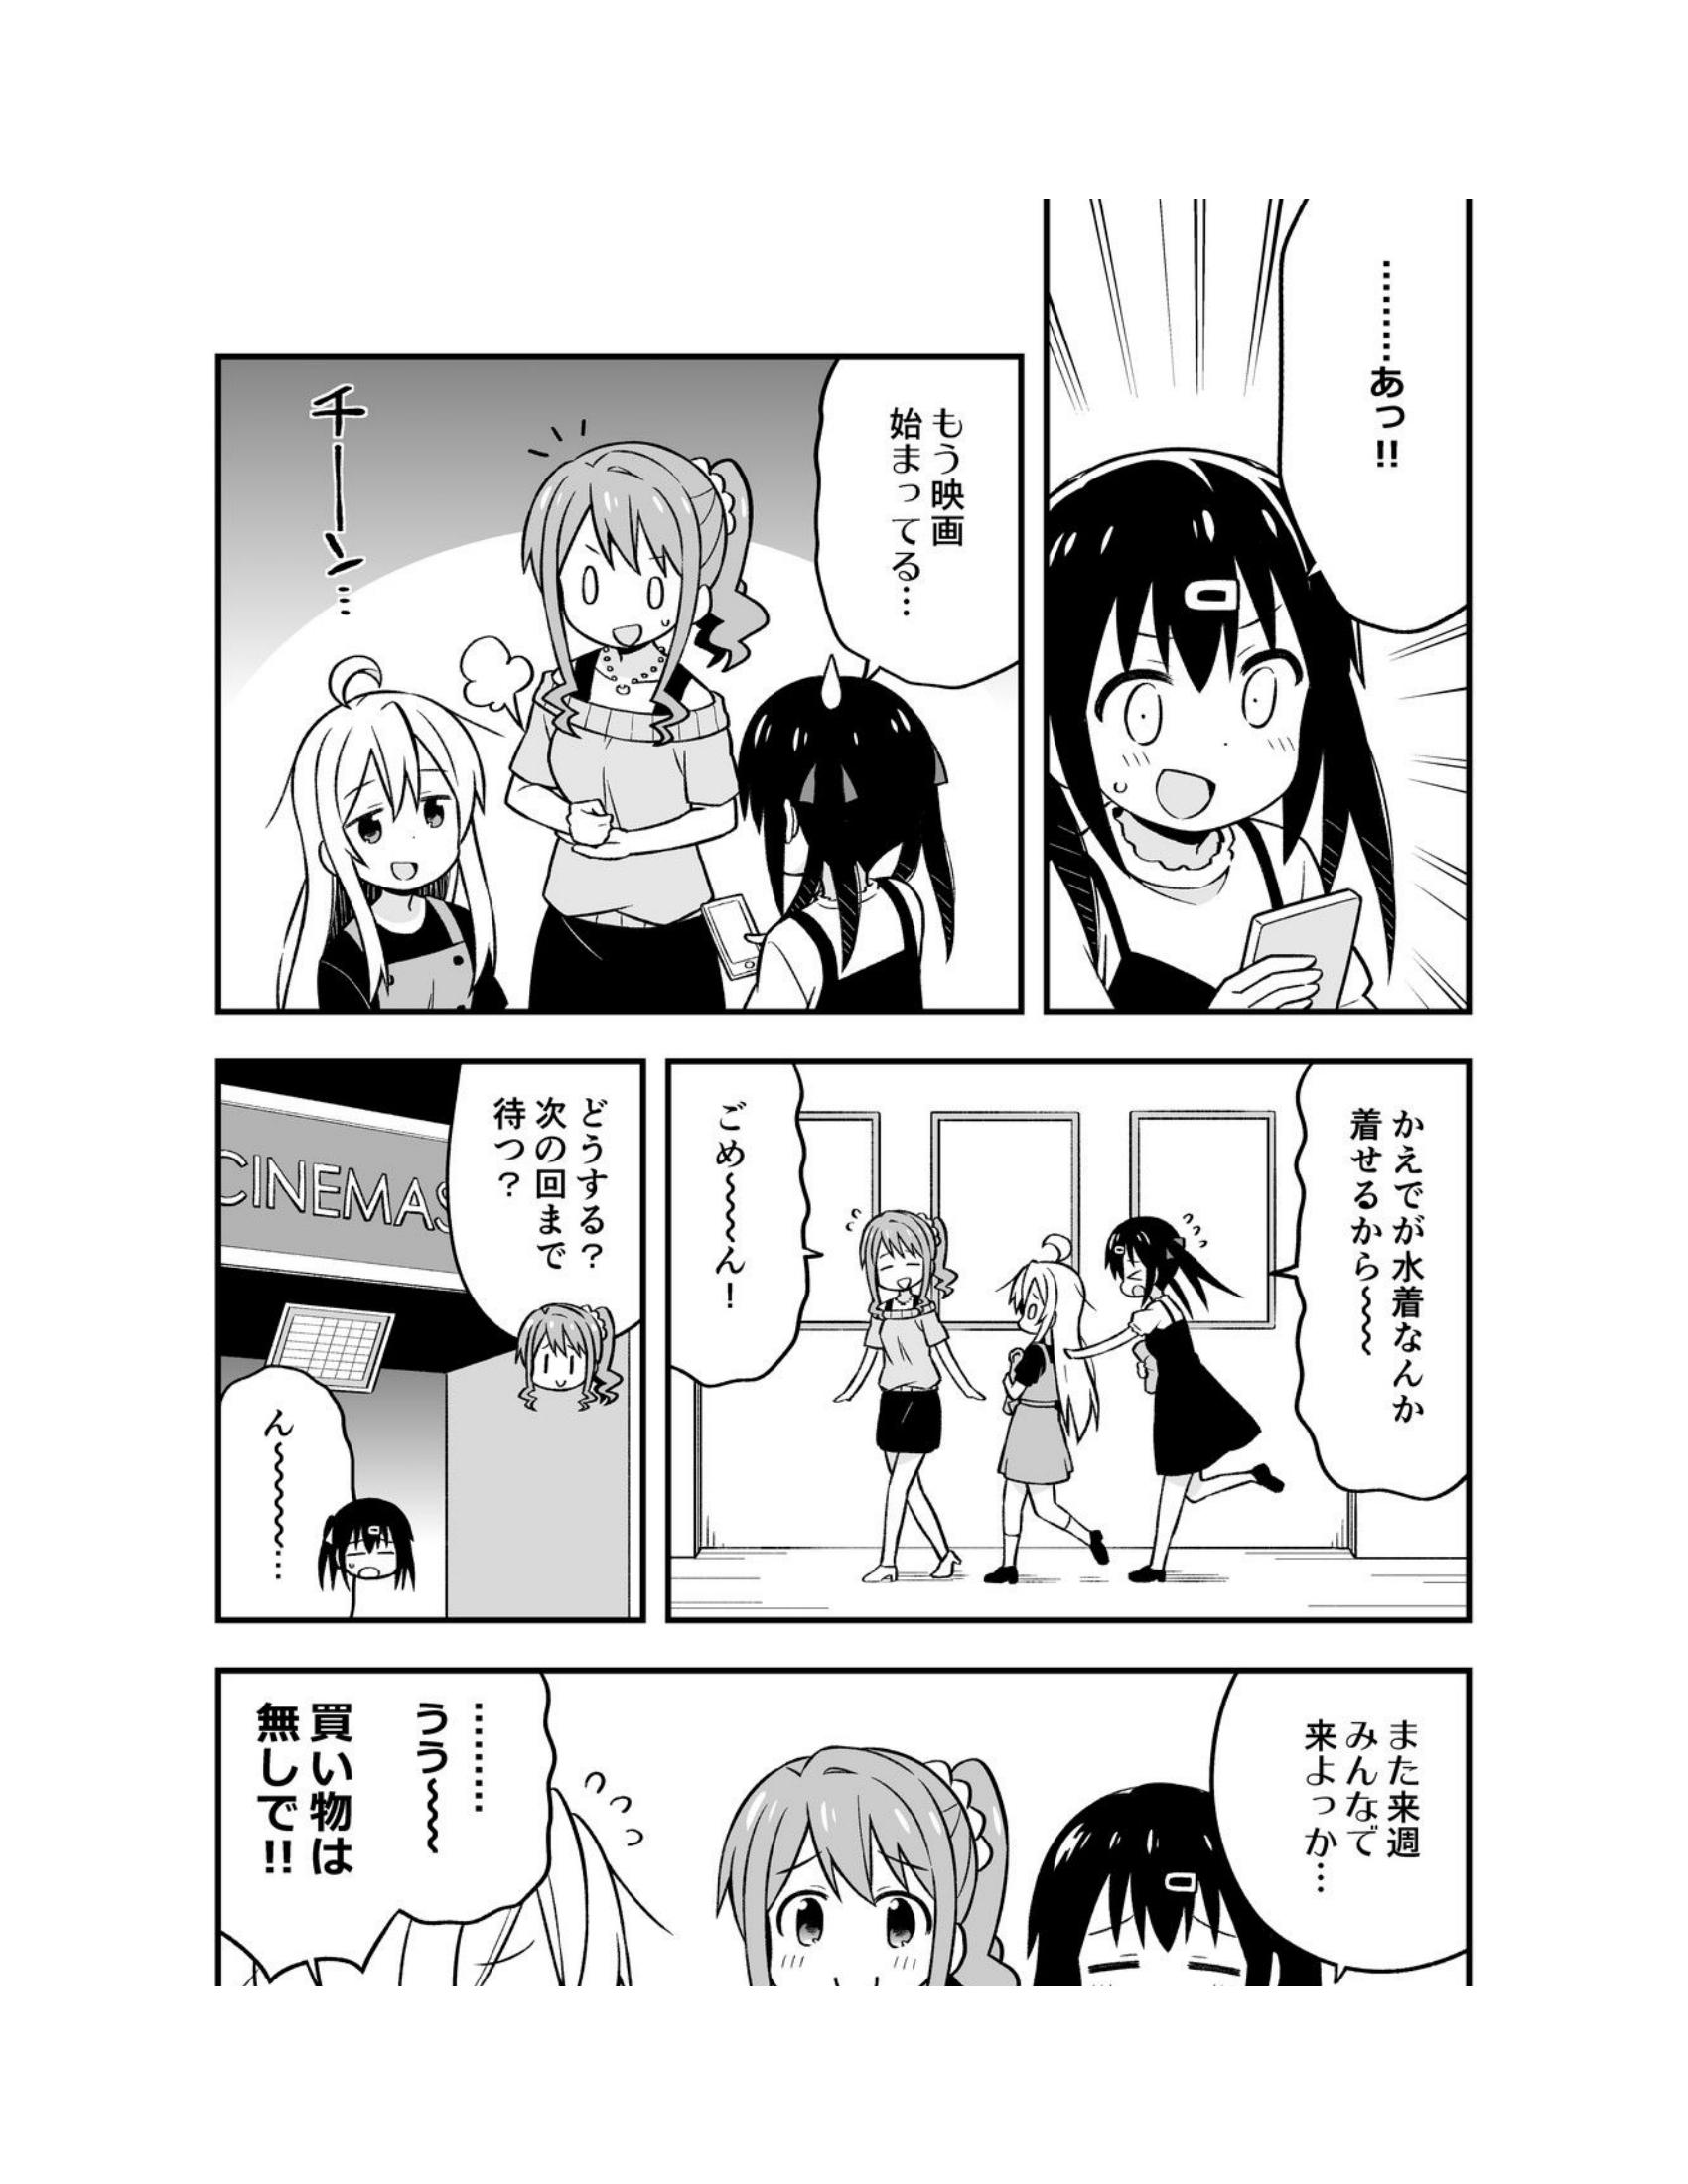a: (163, 1615, 621, 1925), (1254, 199, 1486, 643), (1250, 1007, 1459, 1487), (1186, 1659, 1473, 1982), (796, 326, 1025, 697), (676, 1060, 864, 1390), (429, 1049, 624, 1342)
